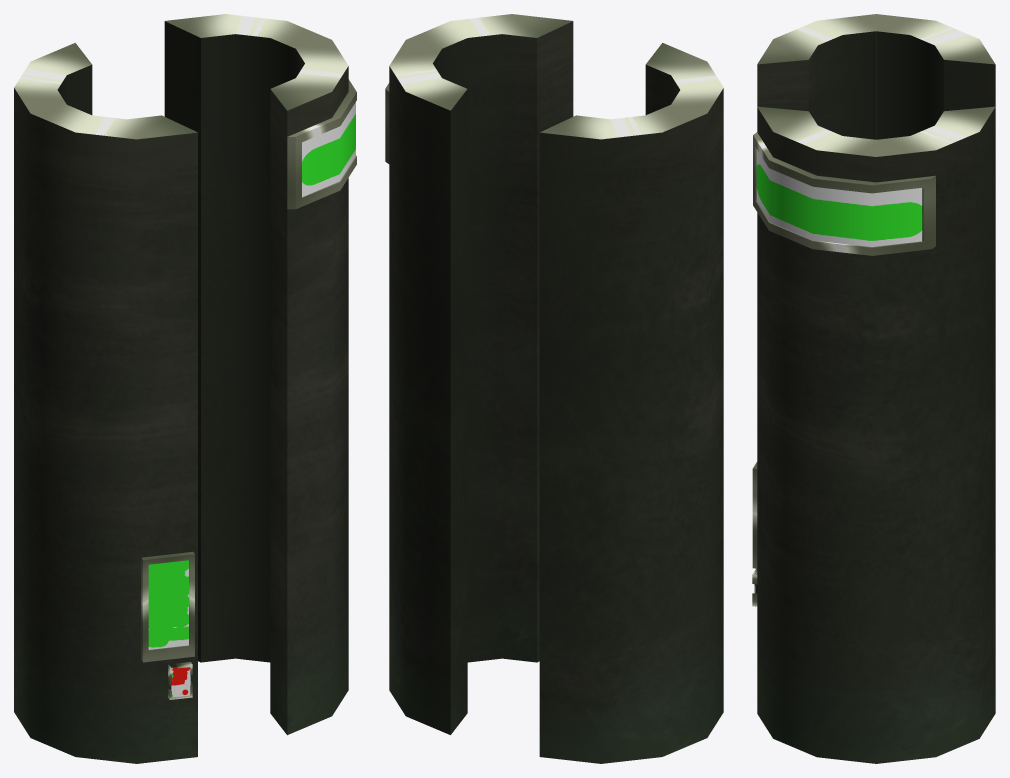
Rendered from Portal_Futuristic-Black.fbx.
3 views of the same model, side by side, from view 1: azimuth 30°, elevation 25°; view 2: azimuth 150°, elevation 25°; view 3: azimuth 270°, elevation 25° (orthographic). The views are drawn at different scales.
Visible parts, largest first — view 1: Portal_Futuristic-Black-, Portal_Futuristic-Black-Decals-; view 2: Portal_Futuristic-Black-; view 3: Portal_Futuristic-Black-, Portal_Futuristic-Black-Decals-.
Boxes of the visible parts, box(x1,y1,x2,y2) form: Portal_Futuristic-Black-: box(14, 14, 356, 763); Portal_Futuristic-Black-Decals-: box(148, 102, 355, 697); Portal_Futuristic-Black-: box(385, 14, 723, 763); Portal_Futuristic-Black-: box(752, 14, 995, 763); Portal_Futuristic-Black-Decals-: box(754, 149, 922, 593).
Bounding box in the file's own units: 1547 × 3000 × 1090.
2 materials, 2 textured.
